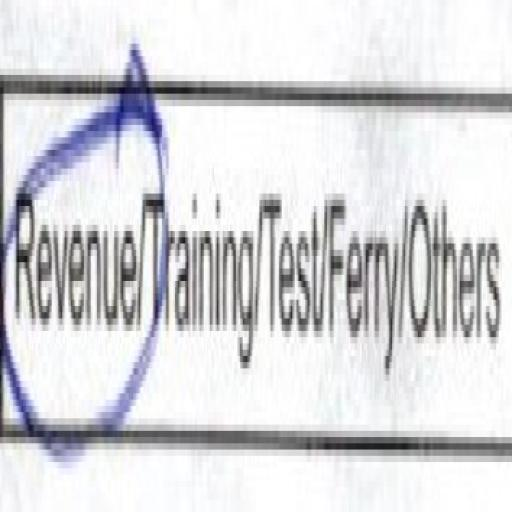check: (0, 17, 145, 448)
